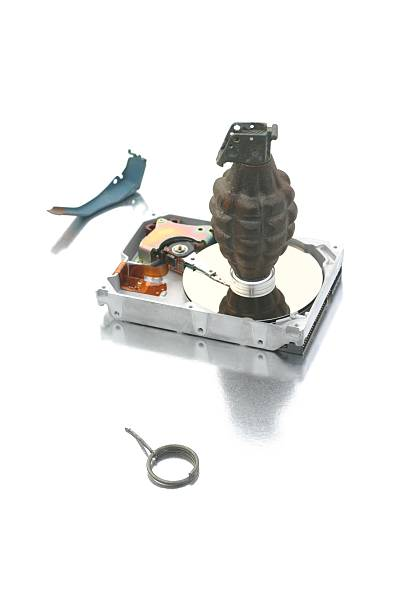e1: (213, 120, 298, 280)
